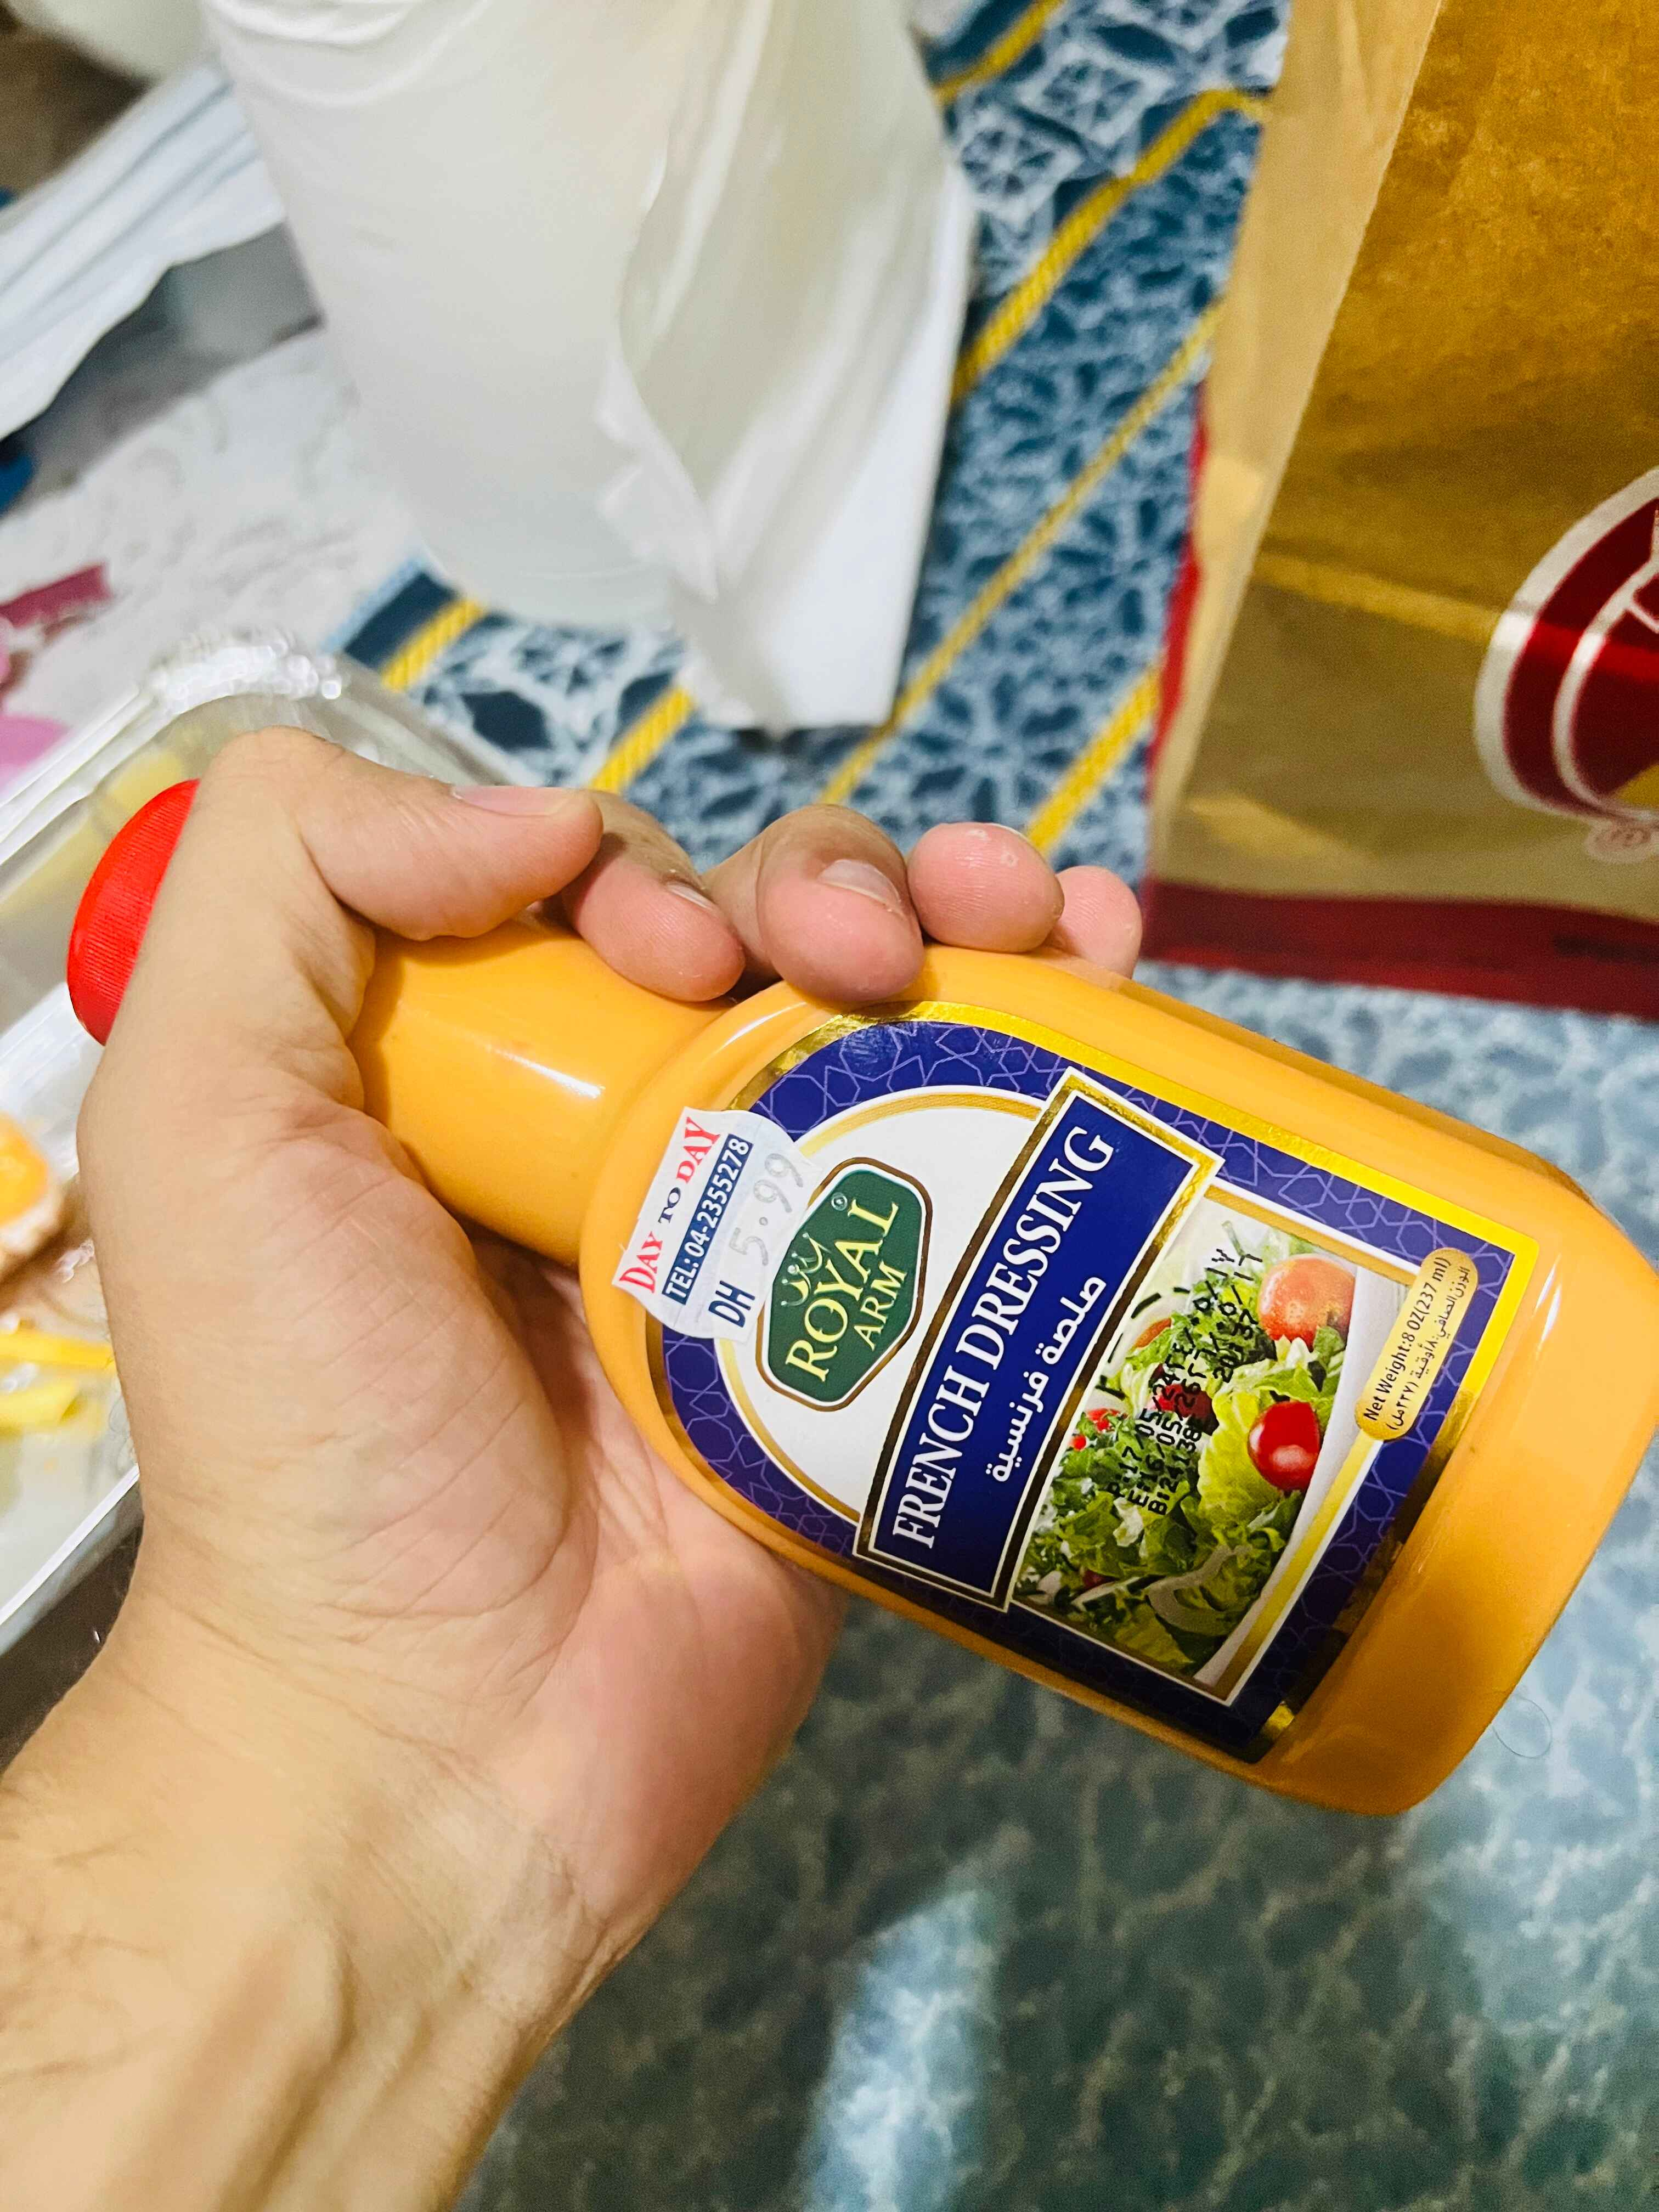PriceTagSmall: (601, 1103, 821, 1343)
